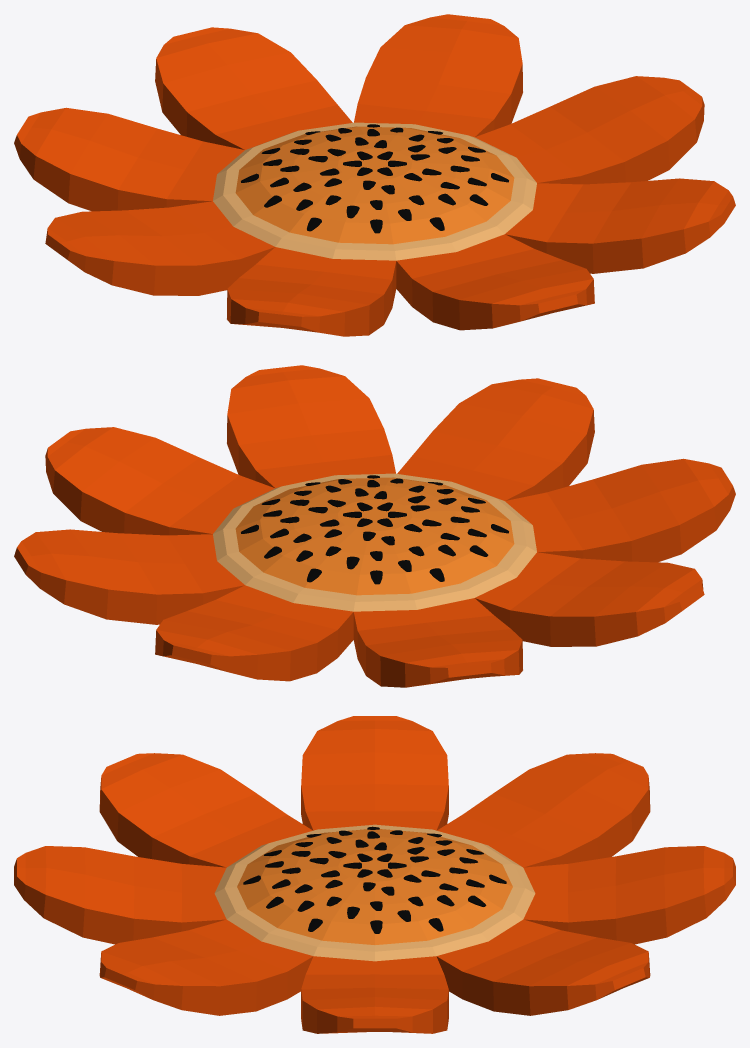
Rendered from Flower.fbx.
3 renders of one model, top to bottom at view 1: azimuth 30°, elevation 25°; view 2: azimuth 150°, elevation 25°; view 3: azimuth 270°, elevation 25°, orthographic.
Visible parts, largest first — view 1: Flower, Seeds; view 2: Flower, Seeds; view 3: Flower, Seeds.
Part boxes in pixels (x1,y1,x2,y2): Flower: (14, 14, 735, 336); Seeds: (241, 124, 508, 233); Flower: (14, 365, 735, 687); Seeds: (241, 475, 508, 584); Flower: (14, 716, 735, 1033); Seeds: (243, 826, 506, 933).
Bounding box in the file's own units: 450 × 48.92 × 450.
